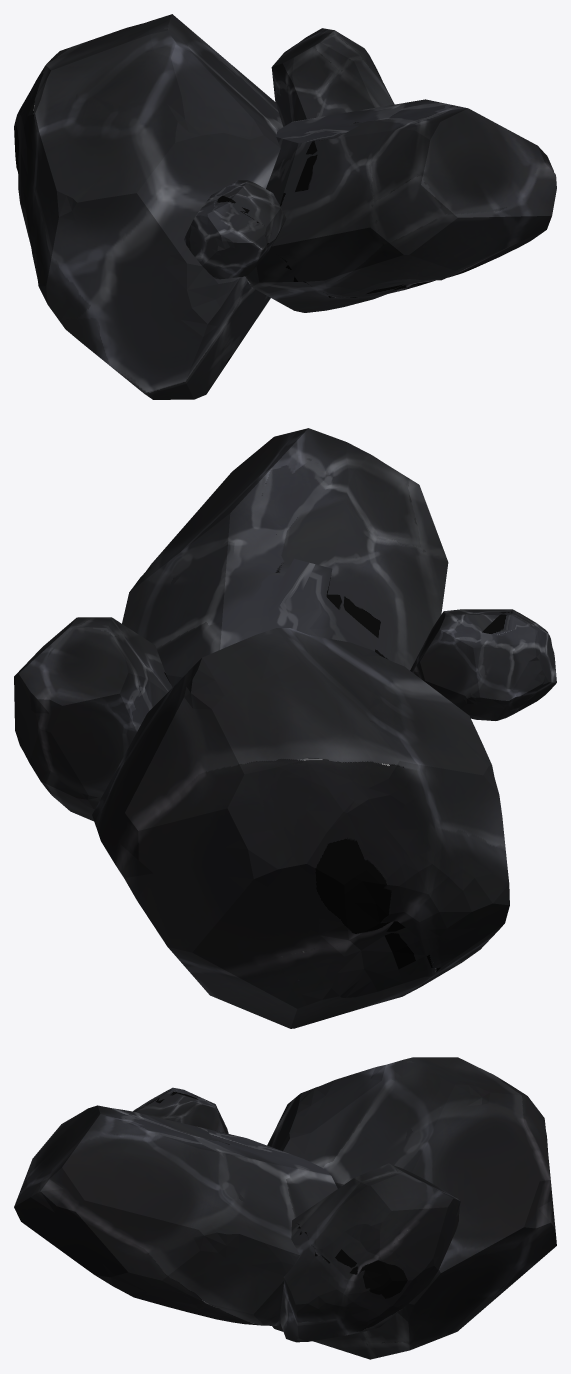
Rendered from rocks_detail_2.obj.
3 views of the same model, one above another, from view 1: azimuth 30°, elevation 25°; view 2: azimuth 150°, elevation 25°; view 3: azimuth 270°, elevation 25° (orthographic). The views are drawn at different scales.
Visible parts, largest first — view 1: Cube.007, Cube.005, Cube.006, Cube.008; view 2: Cube.007, Cube.005, Cube.006, Cube.008; view 3: Cube.005, Cube.007, Cube.006, Cube.008.
Boxes of the visible parts, x1=… form: Cube.007: x1=14, y1=14, x2=283, y2=399; Cube.005: x1=244, y1=99, x2=556, y2=312; Cube.006: x1=271, y1=28, x2=394, y2=126; Cube.008: x1=184, y1=180, x2=286, y2=279; Cube.007: x1=92, y1=628, x2=509, y2=1028; Cube.005: x1=122, y1=428, x2=448, y2=687; Cube.006: x1=14, y1=617, x2=172, y2=821; Cube.008: x1=410, y1=609, x2=556, y2=720; Cube.005: x1=14, y1=1105, x2=337, y2=1325; Cube.007: x1=267, y1=1057, x2=556, y2=1359; Cube.006: x1=279, y1=1163, x2=460, y2=1342; Cube.008: x1=133, y1=1087, x2=228, y2=1133.
Size of the model in its own units: 3.31 by 2.75 by 4.5.
